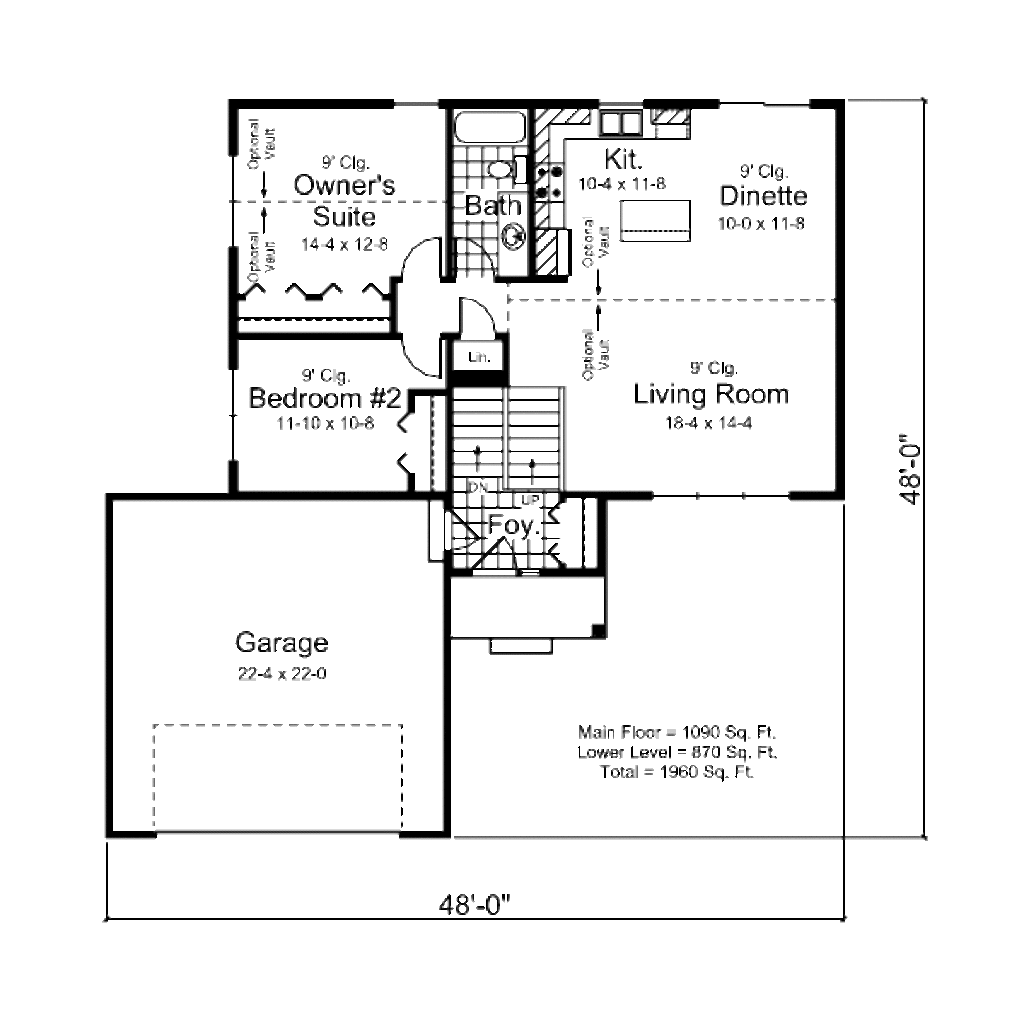door: (395, 325, 451, 387), (454, 293, 506, 358), (451, 230, 503, 290), (465, 533, 529, 579), (398, 236, 443, 285), (441, 511, 475, 557)
large_sink: (487, 154, 530, 193)
small_sink: (497, 189, 533, 290)
stairs: (446, 387, 602, 570)
tub: (448, 109, 529, 146)
twin_sink: (591, 103, 645, 144)
window: (656, 482, 791, 505), (225, 155, 248, 247), (232, 373, 246, 466)
